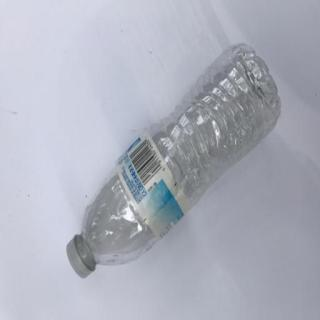Plastic-bottle: (66, 43, 284, 282)
